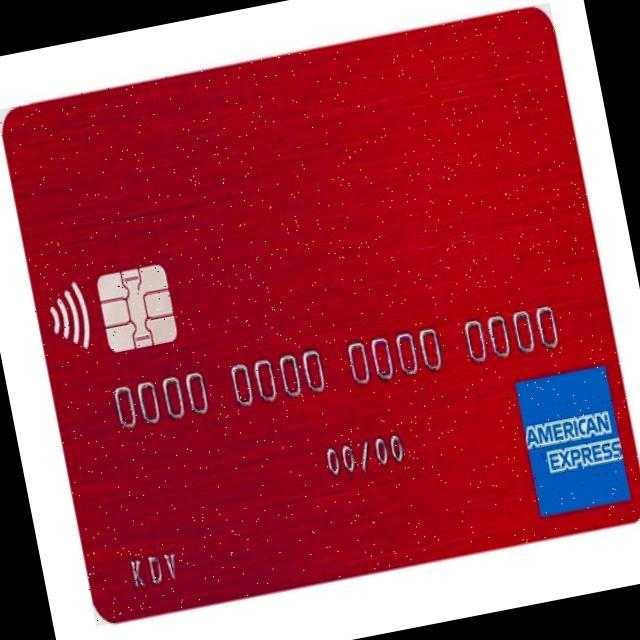payment_card: (0, 0, 639, 635)
